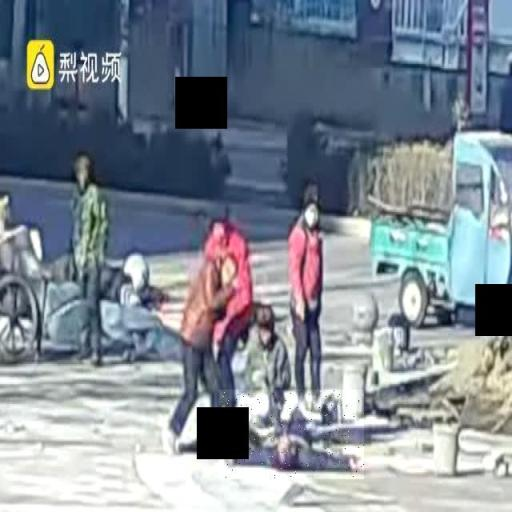Fall: (219, 390, 364, 479)
